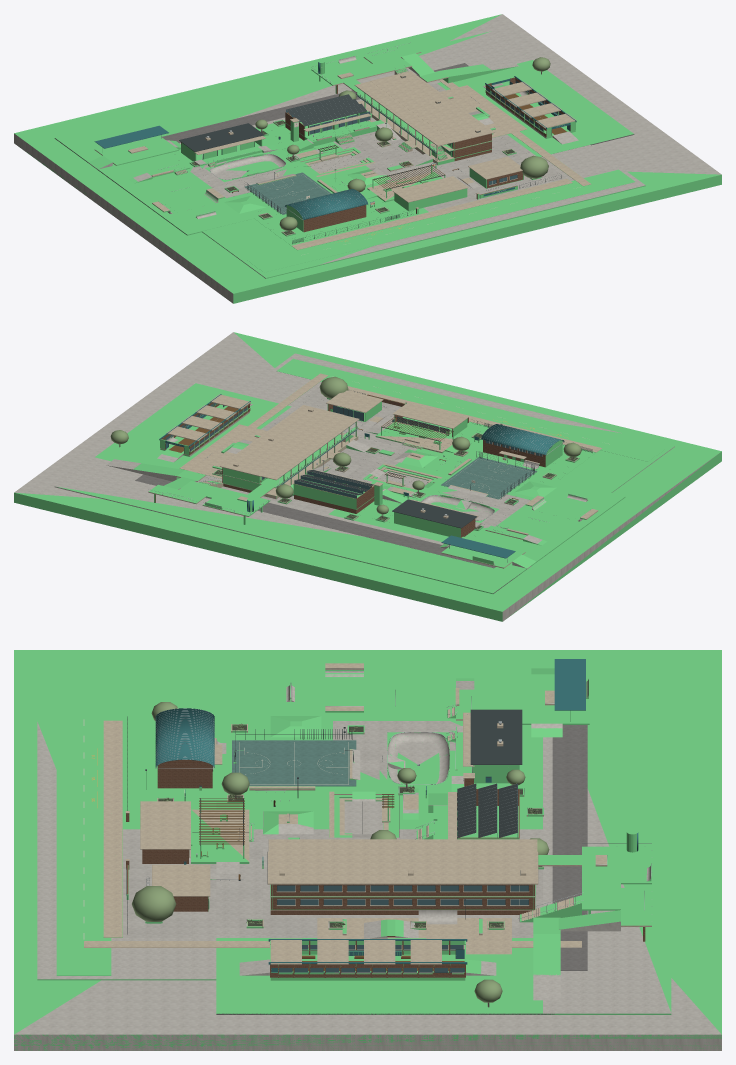
Rendered from eastbank-school.glb.
The picture shows the model from 3 angles, top to bottom: view 1: azimuth 30°, elevation 25°; view 2: azimuth 150°, elevation 25°; view 3: azimuth 270°, elevation 25°; orthographic projection. The views are drawn at different scales.
Parts seen in each view (by area): view 1: COL_Landscape, ENV_Concrete_trowelled@q1#0, ENV_Concrete_warm@q1#0, ENV_Concrete_trowelled@q3#0, COL_NorthExtension, COL_Dropoff, COL_Campus, COL_EastConcourse, COL_WestService, ENV_Concrete_warm@q3#0, COL_UpperTerrace, ENV_Brick_fired@q#0 (+26 smaller); view 2: COL_Landscape, ENV_Concrete_trowelled@q1#0, ENV_Concrete_warm@q1#0, COL_NorthExtension, ENV_Concrete_trowelled@q3#0, COL_Dropoff, COL_WestService, COL_Campus, COL_EastConcourse, ENV_Concrete_warm@q3#0, COL_UpperTerrace, ENV_Asphalt_service@q#0 (+24 smaller); view 3: COL_Landscape, ENV_Concrete_trowelled@q1#0, ENV_Concrete_trowelled@q3#0, ENV_Concrete_warm@q1#0, COL_NorthExtension, COL_Dropoff, COL_EastConcourse, COL_Campus, COL_WestService, ENV_Brick_fired@q#0, ENV_Concrete_warm@q3#0, COL_UpperTerrace (+29 smaller).
Boxes of the visible parts, bbox=[...] form: COL_Landscape: bbox=[14, 14, 721, 303]; ENV_Concrete_trowelled@q1#0: bbox=[179, 14, 721, 197]; ENV_Concrete_warm@q1#0: bbox=[310, 52, 581, 184]; ENV_Concrete_trowelled@q3#0: bbox=[320, 131, 645, 264]; COL_NorthExtension: bbox=[55, 31, 490, 162]; COL_Dropoff: bbox=[247, 169, 635, 272]; COL_Campus: bbox=[166, 120, 428, 245]; COL_EastConcourse: bbox=[437, 60, 633, 156]; COL_WestService: bbox=[57, 129, 253, 235]; ENV_Concrete_warm@q3#0: bbox=[305, 82, 591, 248]; COL_UpperTerrace: bbox=[311, 45, 517, 93]; ENV_Brick_fired@q#0: bbox=[181, 77, 570, 232]; COL_Landscape: bbox=[14, 332, 721, 621]; ENV_Concrete_trowelled@q1#0: bbox=[14, 332, 443, 580]; ENV_Concrete_warm@q1#0: bbox=[148, 378, 386, 516]; COL_NorthExtension: bbox=[56, 486, 526, 593]; ENV_Concrete_trowelled@q3#0: bbox=[240, 353, 621, 465]; COL_Dropoff: bbox=[277, 358, 664, 461]; COL_WestService: bbox=[426, 480, 625, 593]; COL_Campus: bbox=[329, 421, 595, 541]; COL_EastConcourse: bbox=[95, 383, 291, 469]; ENV_Concrete_warm@q3#0: bbox=[188, 373, 596, 470]; COL_UpperTerrace: bbox=[133, 463, 273, 524]; ENV_Asphalt_service@q#0: bbox=[135, 458, 634, 593]; COL_Landscape: bbox=[14, 650, 721, 1050]; ENV_Concrete_trowelled@q1#0: bbox=[14, 737, 721, 1050]; ENV_Concrete_trowelled@q3#0: bbox=[14, 722, 717, 1050]; ENV_Concrete_warm@q1#0: bbox=[93, 793, 651, 973]; COL_NorthExtension: bbox=[543, 668, 671, 1014]; COL_Dropoff: bbox=[56, 683, 111, 975]; COL_EastConcourse: bbox=[216, 938, 554, 1014]; COL_Campus: bbox=[123, 721, 542, 829]; COL_WestService: bbox=[243, 668, 671, 720]; ENV_Brick_fired@q#0: bbox=[126, 760, 645, 977]; ENV_Concrete_warm@q3#0: bbox=[84, 724, 577, 964]; COL_UpperTerrace: bbox=[520, 829, 651, 975].
Size of the model in its own units: 234 by 15.5 by 182.
19 materials, 7 textured.
